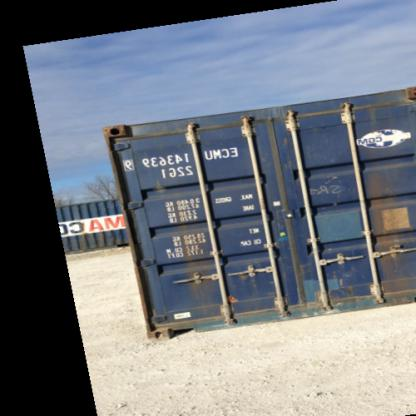Damage: (363, 162, 408, 252), (177, 221, 208, 284), (322, 263, 362, 311), (308, 167, 345, 202), (103, 124, 147, 142)
